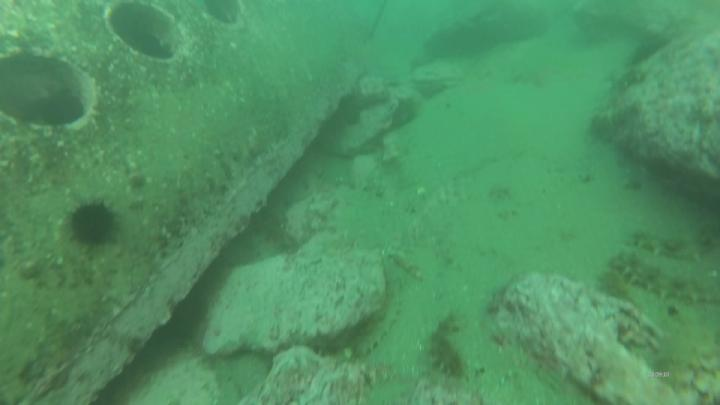echinus: (67, 196, 128, 252)
holothurian: (613, 252, 720, 312), (657, 319, 718, 382), (425, 313, 468, 380), (631, 229, 706, 264)
